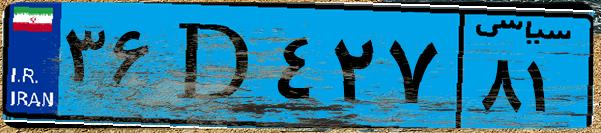1: (525, 38, 570, 115)
2: (330, 28, 385, 110)
3: (57, 26, 110, 100)
4: (270, 28, 330, 110)
6: (110, 28, 158, 98)
7: (385, 28, 445, 110)
8: (475, 38, 525, 113)
D: (158, 12, 270, 120)
